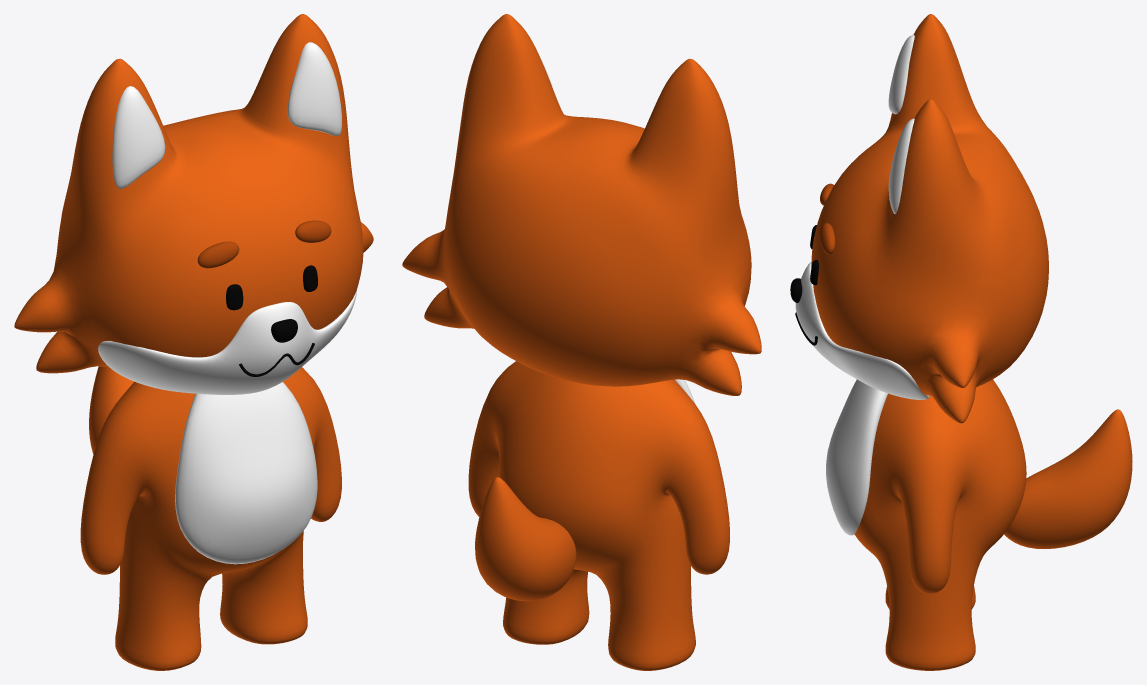
Rendered from fox.fbx.
The picture shows the model from 3 angles, left to right: view 1: azimuth 30°, elevation 25°; view 2: azimuth 150°, elevation 25°; view 3: azimuth 270°, elevation 25°; orthographic projection. The views are drawn at different scales.
Parts seen in each view (by area): view 1: Cube.7898; view 2: Cube.7898; view 3: Cube.7898.
Boxes of the visible parts, box(x1,y1,x2,y2) form: Cube.7898: box(14, 14, 373, 670); Cube.7898: box(402, 14, 761, 670); Cube.7898: box(790, 14, 1132, 670).
Size of the model in its own units: 274 by 443 by 238.
